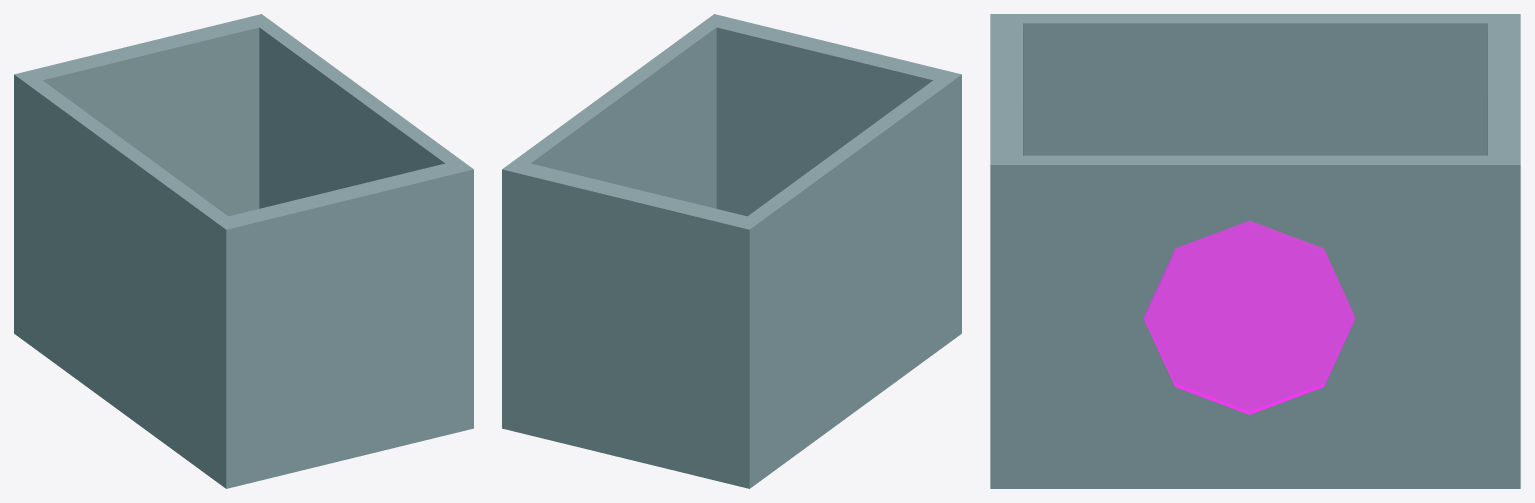
File: CajaRV.fbx
3 renders of one model, left to right at view 1: azimuth 30°, elevation 25°; view 2: azimuth 150°, elevation 25°; view 3: azimuth 270°, elevation 25°, orthographic. The views are drawn at different scales.
Visible parts, largest first — view 1: Cubo.001; view 2: Cubo.001; view 3: Cubo.001, Cilindro.001.
Part boxes in pixels (x1,y1,x2,y2): Cubo.001: (14,14,473,488); Cubo.001: (502,14,961,488); Cubo.001: (990,14,1520,488); Cilindro.001: (1144,220,1354,414).
Size of the model in its own units: 205 by 200 by 297.
